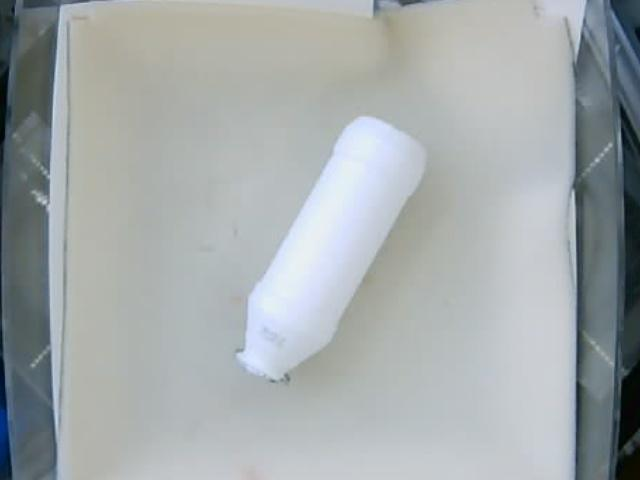Bottle: (239, 114, 425, 383)
